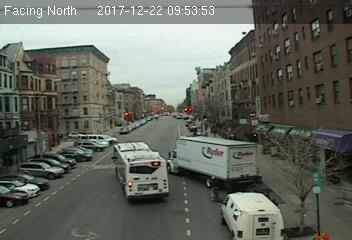bus: (112, 142, 170, 198)
truck: (167, 136, 261, 192), (221, 190, 282, 240)
